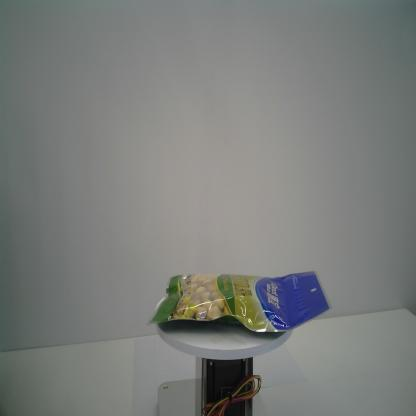Dried Fruit: (143, 267, 334, 336)
